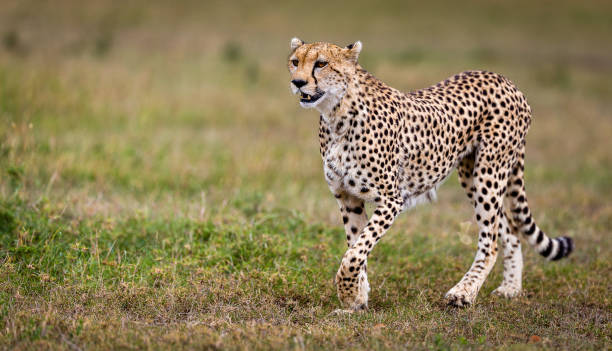cheetah: (263, 25, 375, 123)
